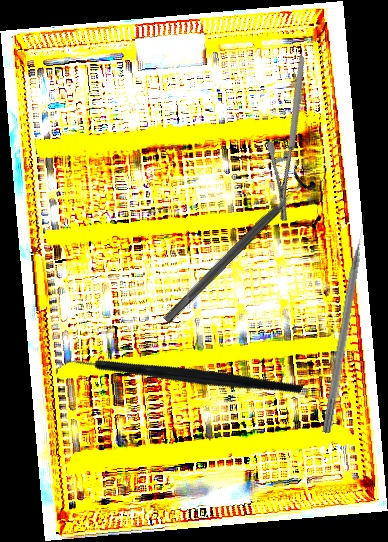Chopper: (53, 280, 305, 479)
Fixation Ring: (154, 164, 318, 332)
Needle Holder: (231, 54, 356, 224)
Pusher: (321, 214, 372, 434)
